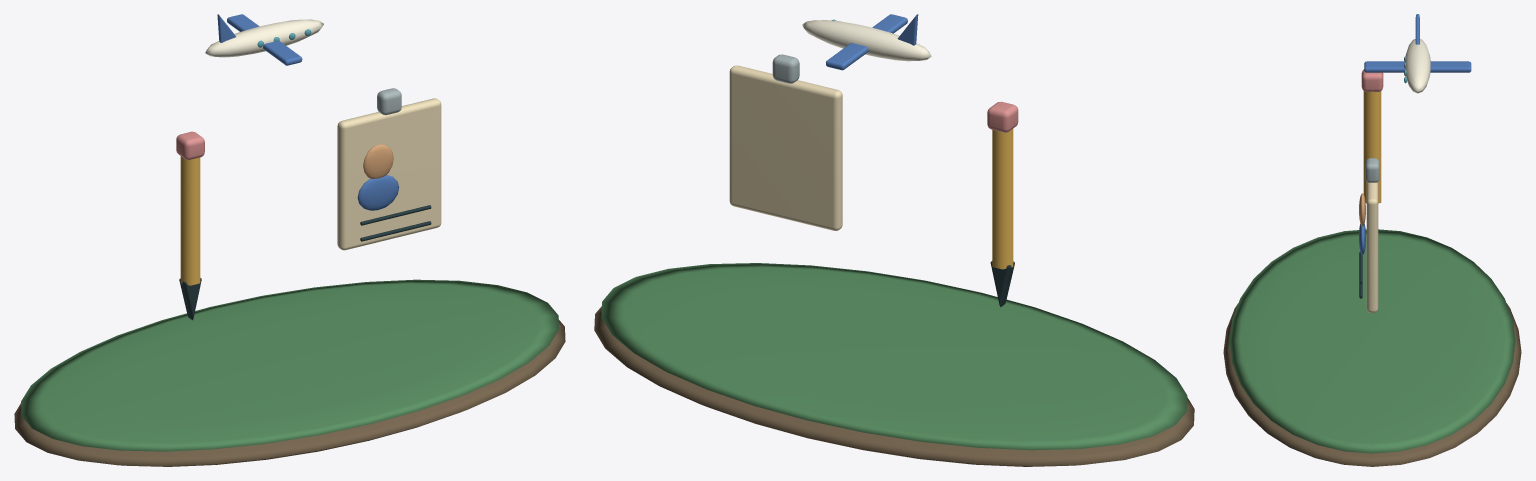
File: complete-third-signature-proof.glb
3 views of the same model, side by side, from view 1: azimuth 30°, elevation 25°; view 2: azimuth 150°, elevation 25°; view 3: azimuth 270°, elevation 25° (orthographic). The views are drawn at different scales.
Visible parts, largest first — view 1: complete-third-signature-proof_surface_01, complete-third-signature-proof_surface_05, complete-third-signature-proof_surface_00, complete-third-signature-proof_surface_02, complete-third-signature-proof_surface_08, complete-third-signature-proof_surface_09, complete-third-signature-proof_surface_03, complete-third-signature-proof_surface_07, complete-third-signature-proof_surface_04, complete-third-signature-proof_surface_06; view 2: complete-third-signature-proof_surface_01, complete-third-signature-proof_surface_05, complete-third-signature-proof_surface_00, complete-third-signature-proof_surface_02, complete-third-signature-proof_surface_09, complete-third-signature-proof_surface_08, complete-third-signature-proof_surface_04, complete-third-signature-proof_surface_06; view 3: complete-third-signature-proof_surface_01, complete-third-signature-proof_surface_00, complete-third-signature-proof_surface_05, complete-third-signature-proof_surface_02, complete-third-signature-proof_surface_08, complete-third-signature-proof_surface_09, complete-third-signature-proof_surface_04, complete-third-signature-proof_surface_06.
Part boxes in pixels (x1,y1,x2,y2): complete-third-signature-proof_surface_01: (21, 279, 558, 451); complete-third-signature-proof_surface_05: (337, 98, 441, 250); complete-third-signature-proof_surface_00: (14, 319, 565, 466); complete-third-signature-proof_surface_02: (180, 156, 200, 285); complete-third-signature-proof_surface_08: (217, 14, 399, 210); complete-third-signature-proof_surface_09: (205, 19, 323, 57); complete-third-signature-proof_surface_03: (179, 205, 431, 320); complete-third-signature-proof_surface_07: (363, 144, 393, 178); complete-third-signature-proof_surface_04: (176, 131, 204, 159); complete-third-signature-proof_surface_06: (377, 88, 401, 115); complete-third-signature-proof_surface_01: (601, 263, 1187, 450); complete-third-signature-proof_surface_05: (729, 65, 842, 230); complete-third-signature-proof_surface_00: (594, 306, 1194, 466); complete-third-signature-proof_surface_02: (992, 128, 1013, 269); complete-third-signature-proof_surface_09: (802, 20, 931, 61); complete-third-signature-proof_surface_08: (826, 14, 918, 70); complete-third-signature-proof_surface_04: (987, 101, 1018, 132); complete-third-signature-proof_surface_06: (772, 54, 799, 83); complete-third-signature-proof_surface_01: (1229, 229, 1515, 453); complete-third-signature-proof_surface_00: (1223, 303, 1521, 466); complete-third-signature-proof_surface_05: (1366, 182, 1378, 312); complete-third-signature-proof_surface_02: (1363, 91, 1381, 203); complete-third-signature-proof_surface_08: (1359, 14, 1471, 254); complete-third-signature-proof_surface_09: (1405, 39, 1430, 93); complete-third-signature-proof_surface_04: (1361, 69, 1383, 91); complete-third-signature-proof_surface_06: (1365, 158, 1379, 182).
Size of the model in its own units: 4.56 by 3.07 by 2.5.
